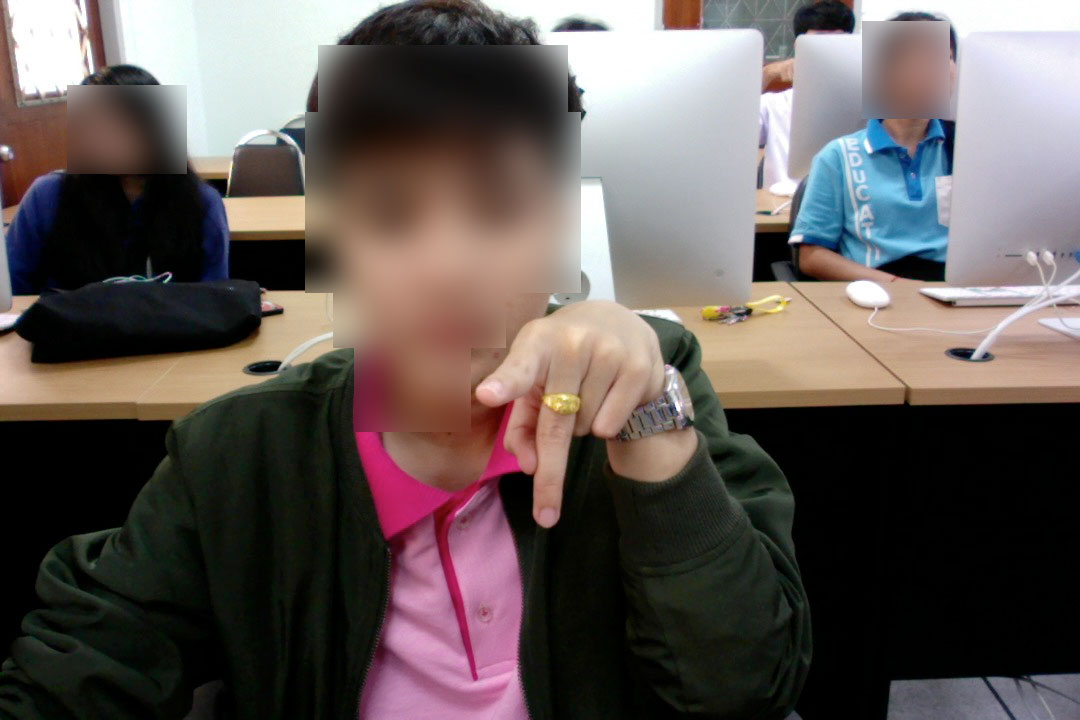por: (471, 282, 671, 534)
